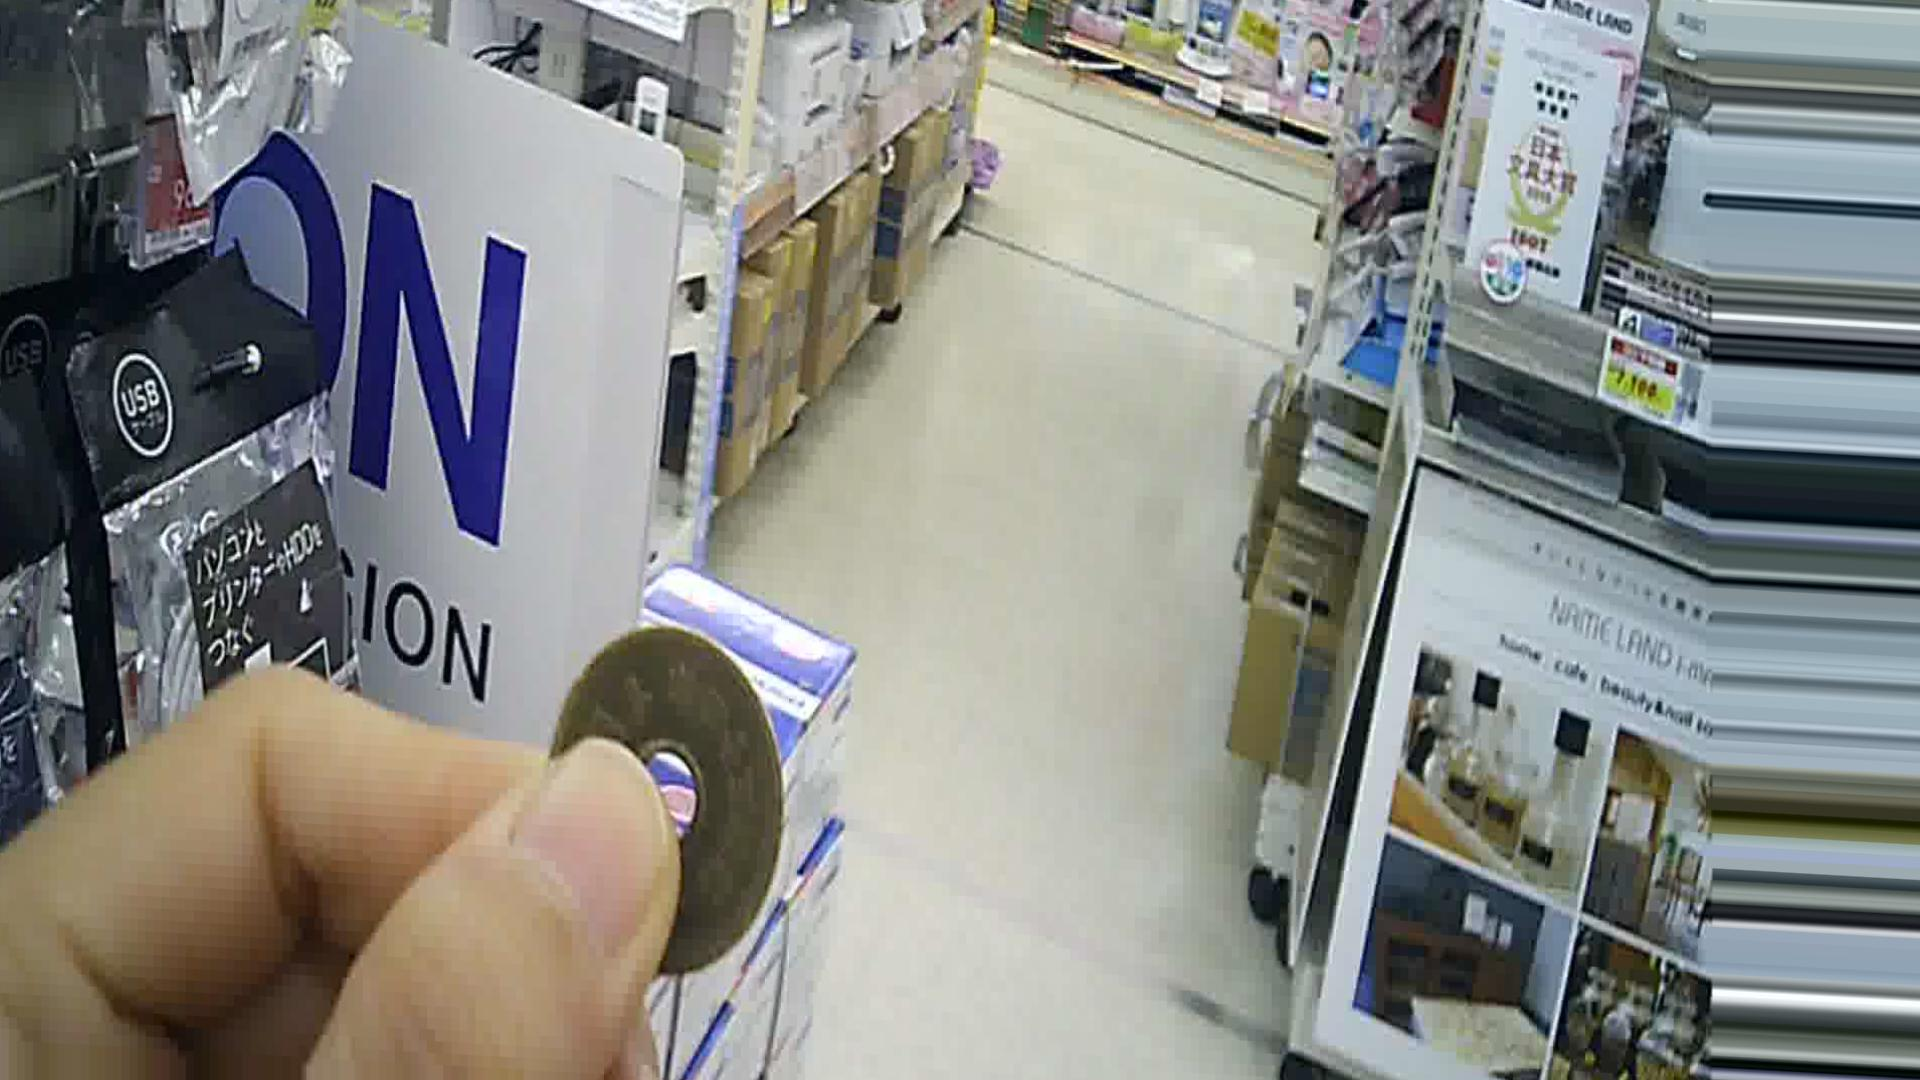5 Yen: (516, 617, 775, 988)
